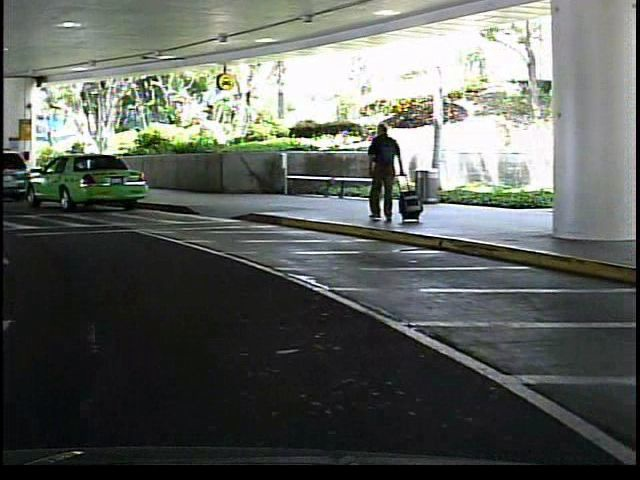person: (361, 115, 407, 230)
